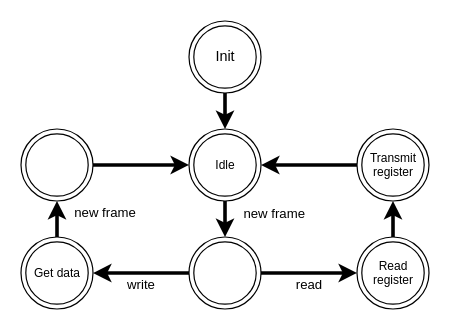
This 450x330 diagram has some shape labels left out. Here are the shapes that lost their labels. From the top down, the box of each, then its label:
(20, 128, 93, 201): Write register
(188, 236, 261, 309): Decode
